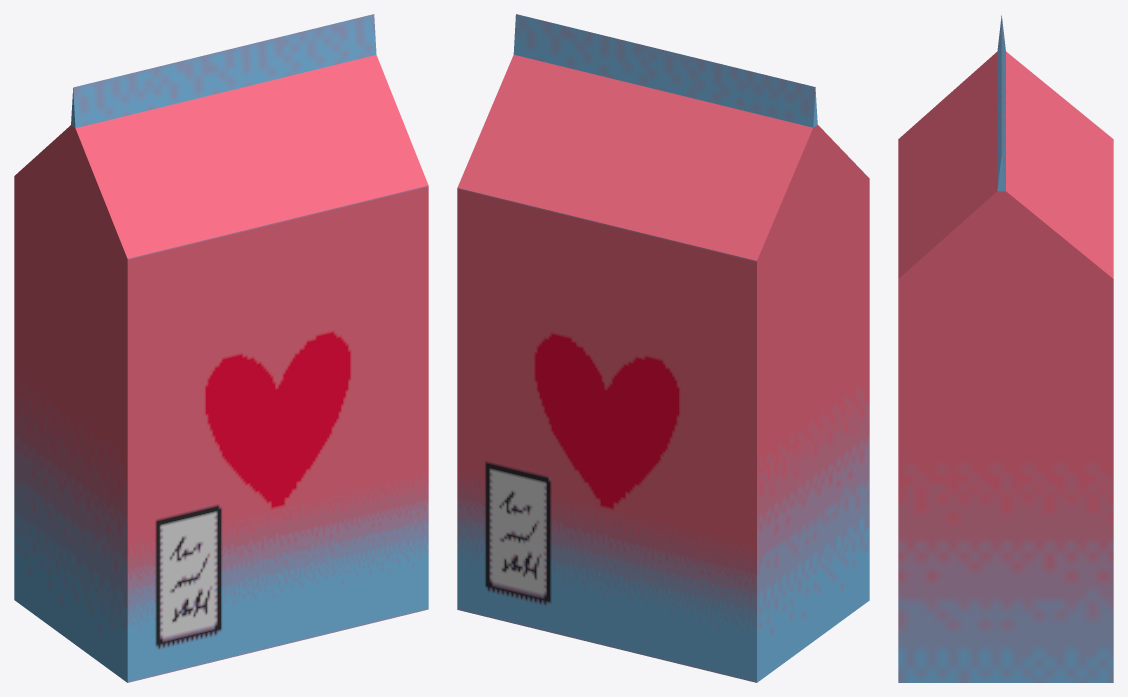
File: JugoRecuperacion.fbx
The picture shows the model from 3 angles, left to right: view 1: azimuth 30°, elevation 25°; view 2: azimuth 150°, elevation 25°; view 3: azimuth 270°, elevation 25°; orthographic projection. The views are drawn at different scales.
Visible parts, largest first — view 1: Cube.003; view 2: Cube.003; view 3: Cube.003.
Boxes of the visible parts, bbox=[...] form: Cube.003: bbox=[14, 14, 428, 682]; Cube.003: bbox=[457, 14, 869, 682]; Cube.003: bbox=[898, 15, 1113, 682].
Size of the model in its own units: 66.23 by 117 by 43.14.
1 material, 1 textured.
